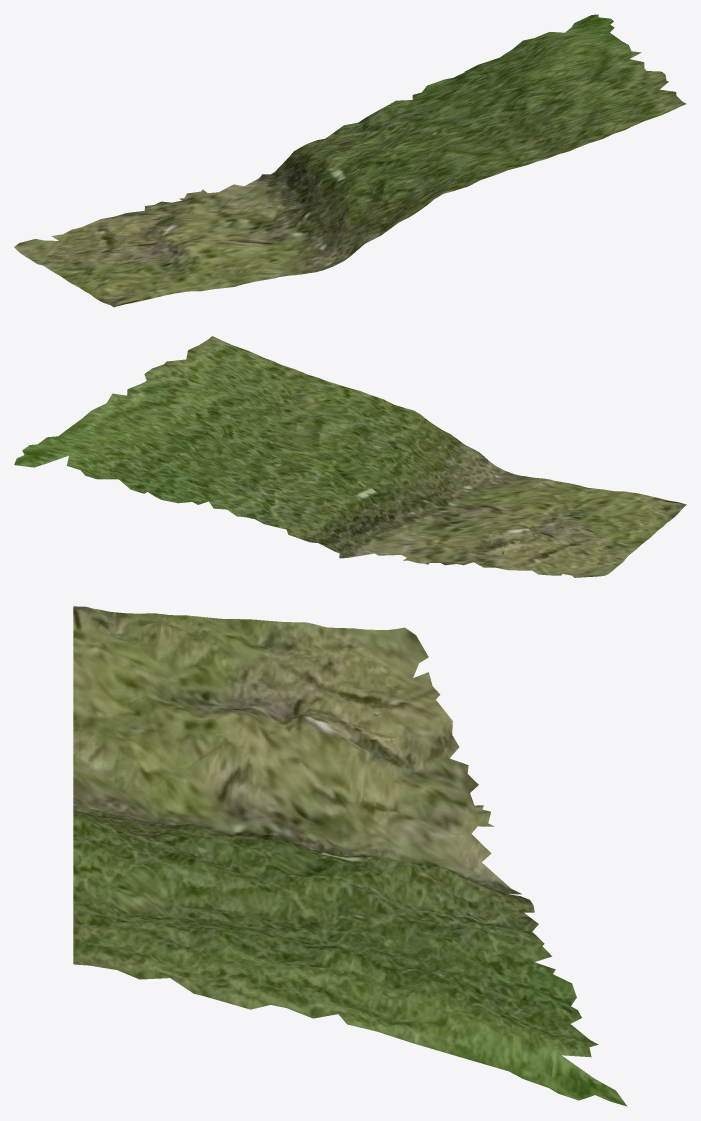
The picture shows the model from 3 angles, top to bottom: view 1: azimuth 30°, elevation 25°; view 2: azimuth 150°, elevation 25°; view 3: azimuth 270°, elevation 25°; orthographic projection. The views are drawn at different scales.
Size of the model in its own units: 3.76 by 0.5458 by 1.67.
Materials: 1 (1 with a texture image).
